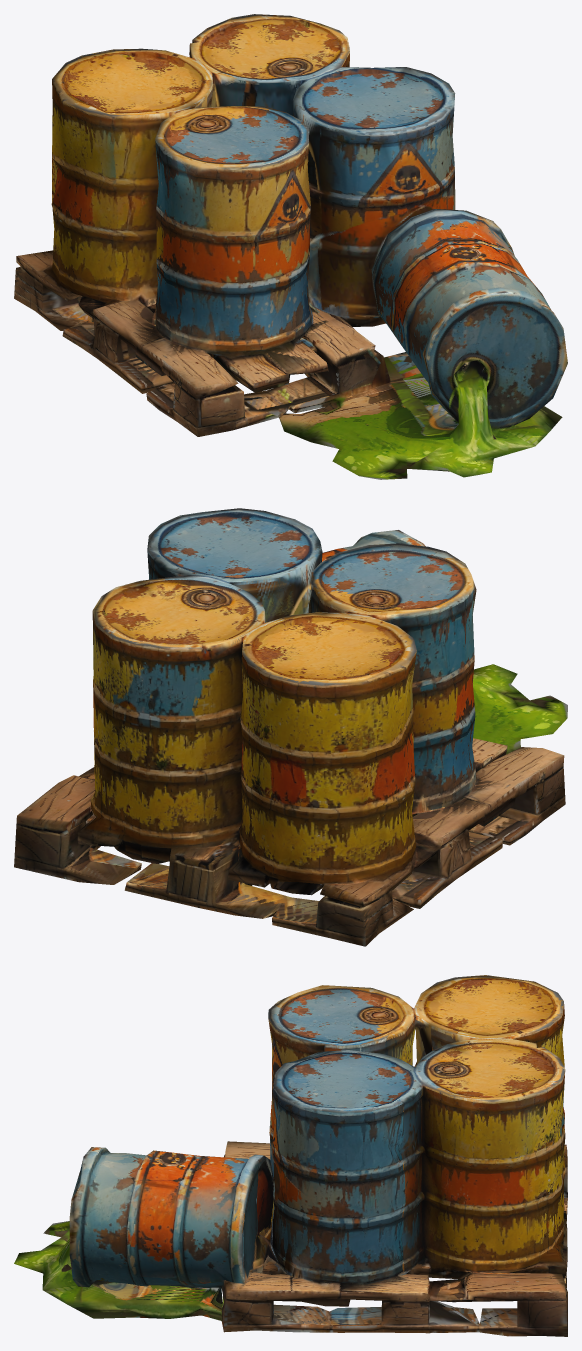
The model's file is EX_Lab_HazardDrums.fbx.
3 renders of one model, top to bottom at view 1: azimuth 30°, elevation 25°; view 2: azimuth 150°, elevation 25°; view 3: azimuth 270°, elevation 25°, orthographic. The views are drawn at different scales.
Parts seen in each view (by area): view 1: texture_mapping; view 2: texture_mapping; view 3: texture_mapping.
Part boxes in pixels (x1=…): texture_mapping: x1=14, y1=14, x2=567, y2=479; texture_mapping: x1=14, y1=508, x2=567, y2=946; texture_mapping: x1=14, y1=975, x2=567, y2=1336.
Bounding box in the file's own units: 0.6389 × 0.9942 × 0.4331.
Materials: 1 (1 with a texture image).
